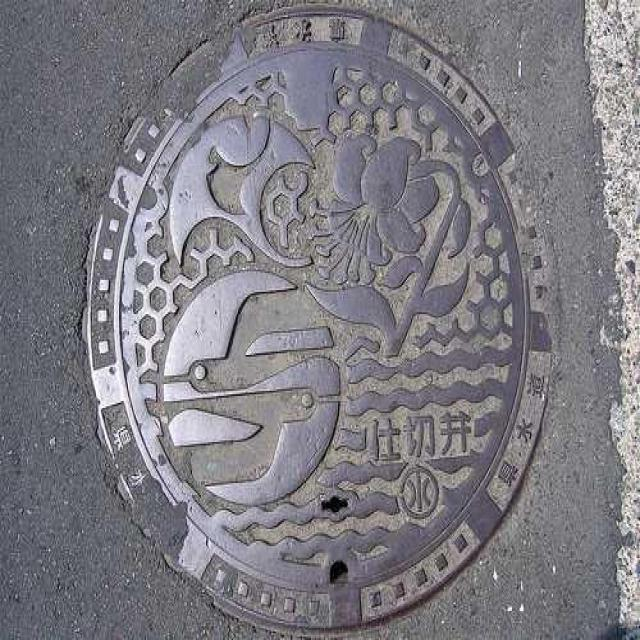manhole: (81, 9, 554, 635)
